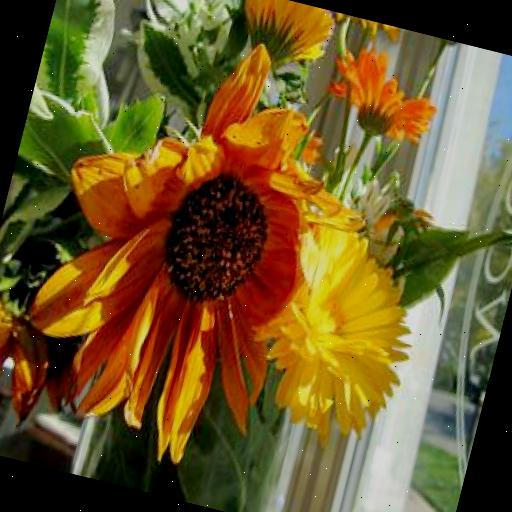sunflower: (18, 10, 397, 480), (252, 217, 438, 452), (320, 36, 450, 150)
